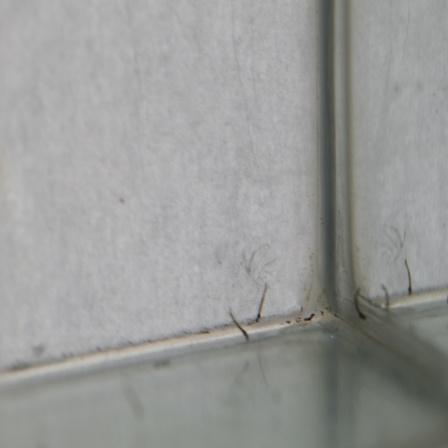Jentik-Nyamuk: (226, 307, 251, 344), (254, 282, 271, 325), (352, 285, 368, 323)
